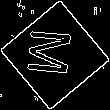M_E: (28, 29, 82, 81)
